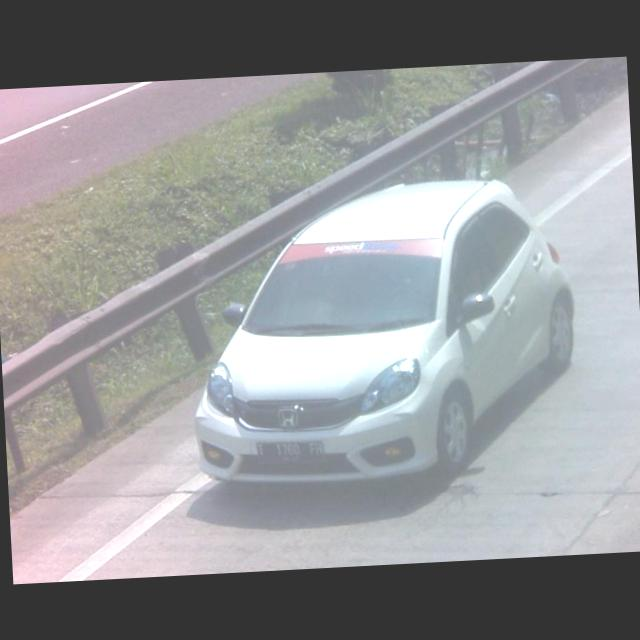plate: (254, 435, 329, 466)
